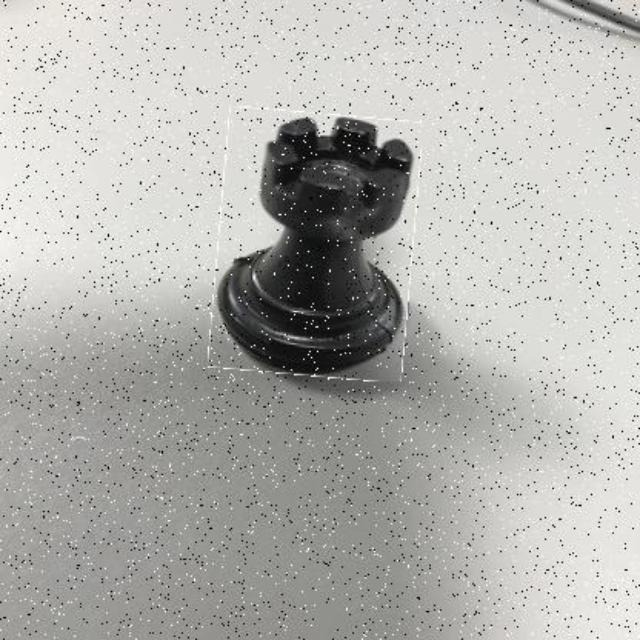black-rook: (213, 110, 417, 380)
